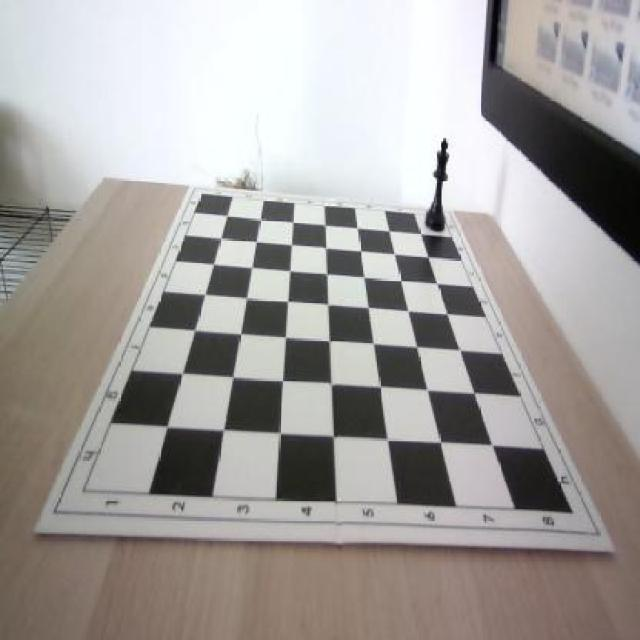black-bishop: (425, 137, 452, 233)
